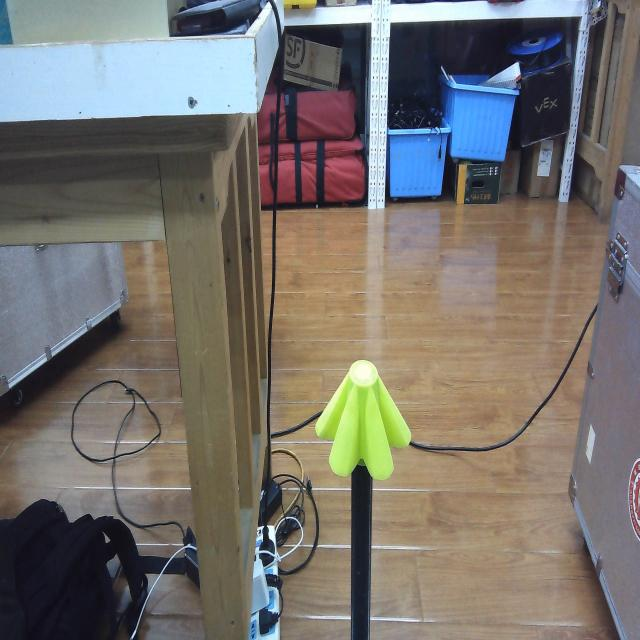Yellow-Stake-Head: (314, 360, 412, 481)
